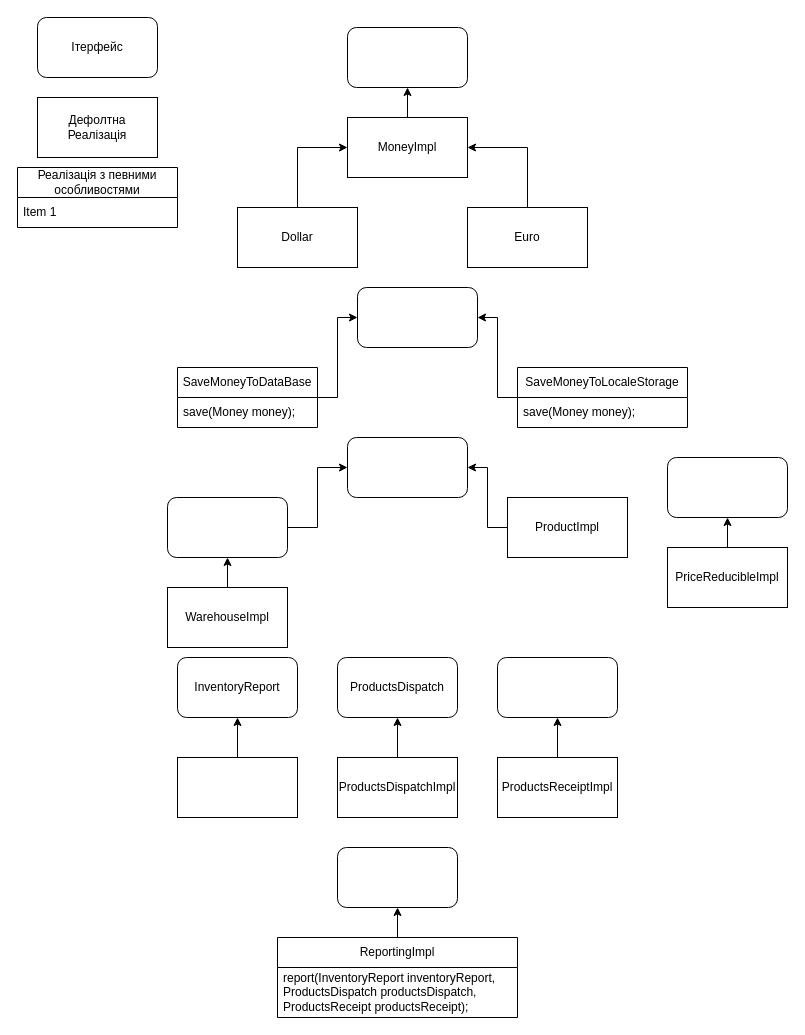
This 805x1035 diagram has some shape labels left out. The shapes that lost their labels are listed below. From the top down, each one's centre as x and y in pixels, then its label:
At point (407, 57): "Money".
At point (417, 317): "SaveMoney".
At point (407, 467): "Product".
At point (727, 487): "PriceReducible".
At point (227, 527): "Warehouse".
At point (557, 687): "ProductsReceipt".
At point (237, 787): "InventoryReportImpl".
At point (397, 877): "Reporting".
